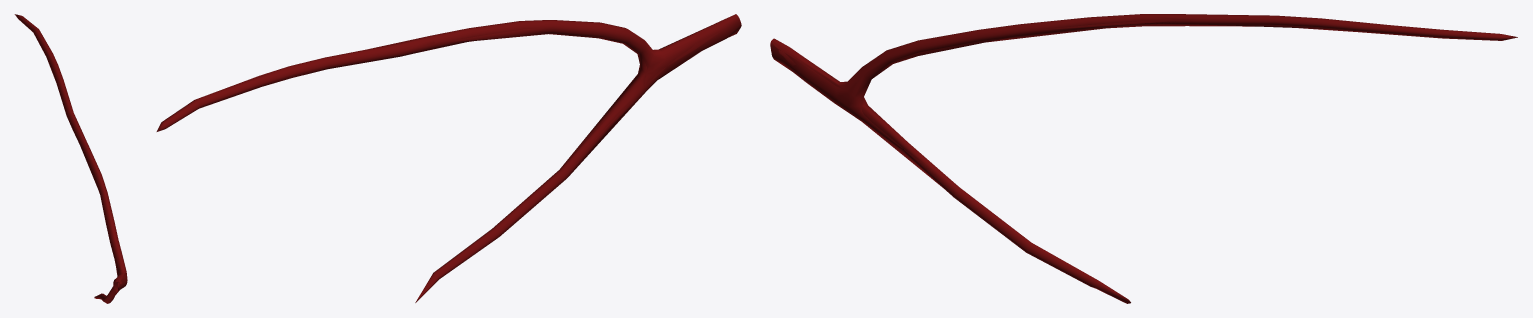
The model's file is L arteria thoracodorsalis.fbx.
3 views of the same model, side by side, from view 1: azimuth 30°, elevation 25°; view 2: azimuth 150°, elevation 25°; view 3: azimuth 270°, elevation 25° (orthographic). The views are drawn at different scales.
Parts seen in each view (by area): view 1: L arteria thoracodorsalis, L arteria thoracodorsalis low; view 2: L arteria thoracodorsalis, L arteria thoracodorsalis low; view 3: L arteria thoracodorsalis, L arteria thoracodorsalis low.
Boxes of the visible parts, x1,y1,x2,y2 form: L arteria thoracodorsalis: (14,14,127,303); L arteria thoracodorsalis low: (38,31,126,300); L arteria thoracodorsalis: (156,14,741,302); L arteria thoracodorsalis low: (201,22,723,235); L arteria thoracodorsalis: (770,14,1517,303); L arteria thoracodorsalis low: (771,15,1438,193).
Bounding box in the file's own units: 7.18 × 9.56 × 21.35.
